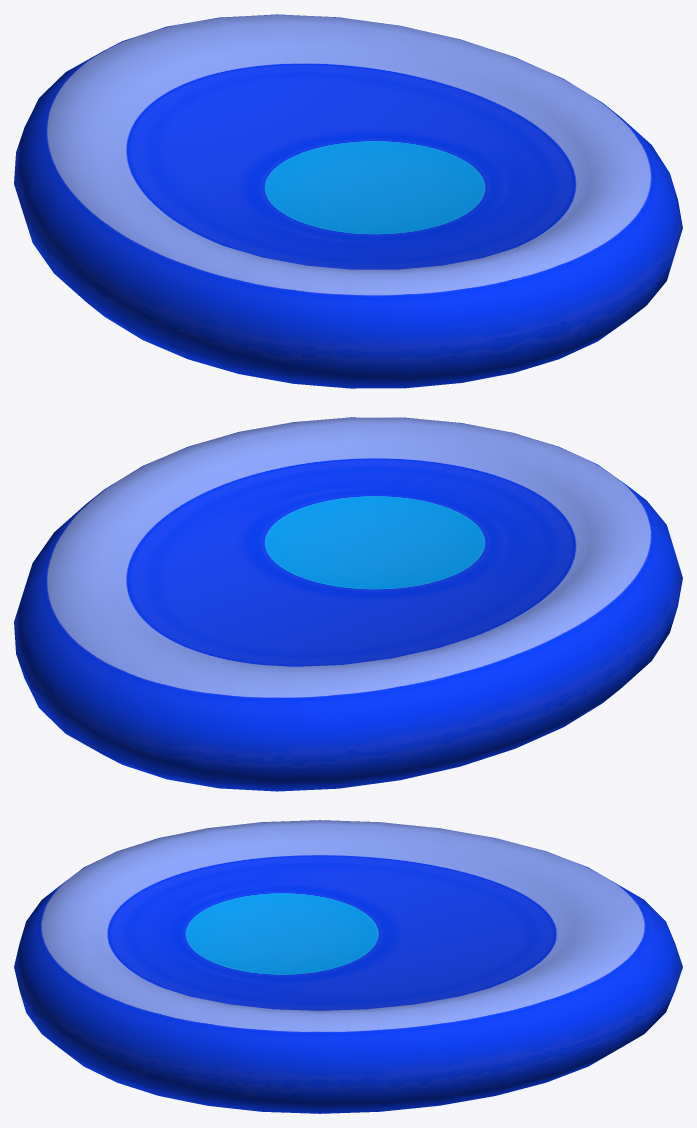
File: PoolFloat07.FBX
The picture shows the model from 3 angles, top to bottom: view 1: azimuth 30°, elevation 25°; view 2: azimuth 150°, elevation 25°; view 3: azimuth 270°, elevation 25°; orthographic projection. The views are drawn at different scales.
Parts seen in each view (by area): view 1: PoolFloat07; view 2: PoolFloat07; view 3: PoolFloat07.
Boxes of the visible parts, x1,y1,x2,y2 form: PoolFloat07: (14,14,682,388); PoolFloat07: (14,417,682,791); PoolFloat07: (14,820,682,1113).
Size of what is drawn, in the model's own units: 1.52 by 0.2825 by 1.83.
